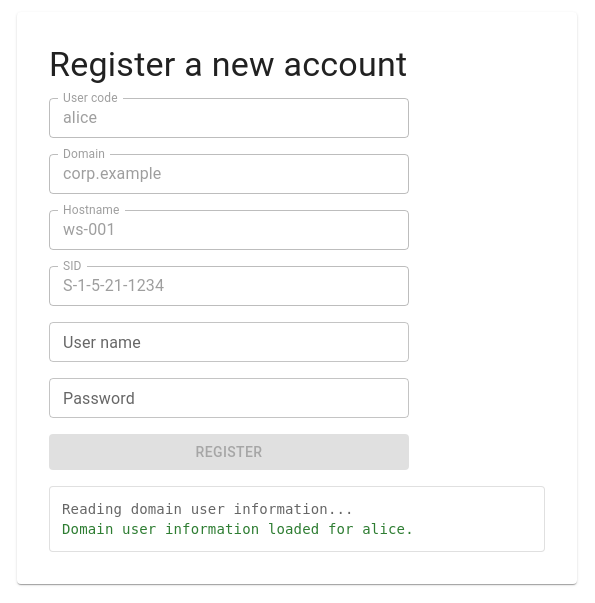
RegisterPage — submission › replaces the form with the contact-administrator hint on success
Type "Alice" into the field labelled "User name" at (229, 342), box [49,322,409,362]
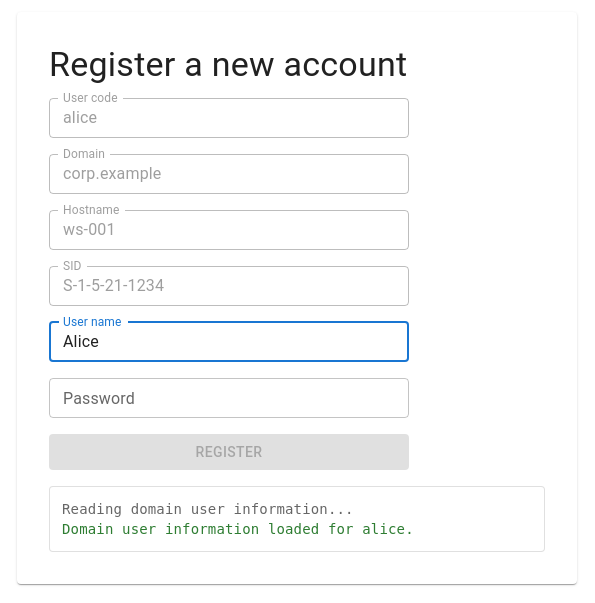
Type "secret" into the password field labelled "Password" at (229, 398), box [49,378,409,418]
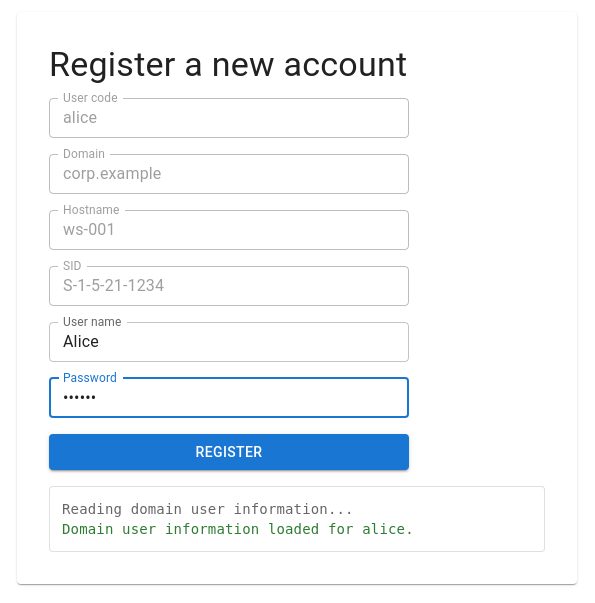
Click the button "Register" at (229, 452), box [49,434,409,470]
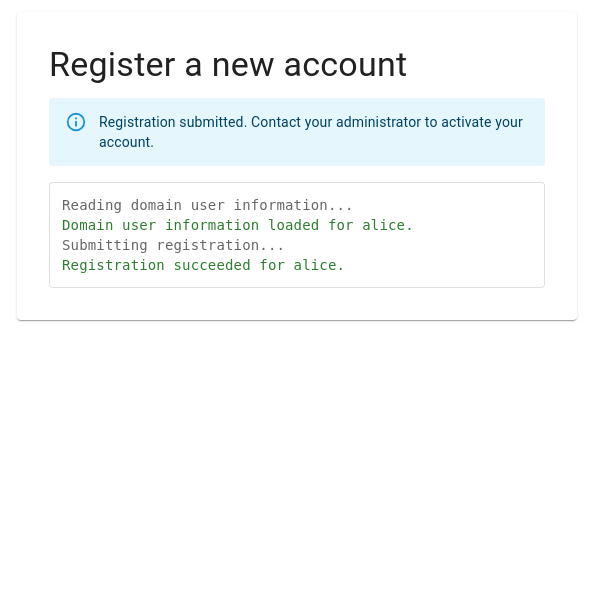
Expected: the text "Contact your administrator to activate your account" is shown, [99,114,523,150]
Expected: the label labelled "User name" is gone
